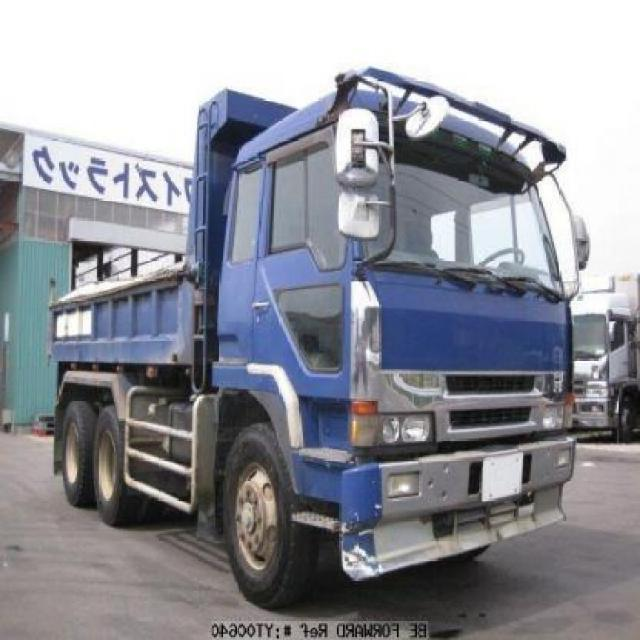truck: (47, 62, 590, 608)
